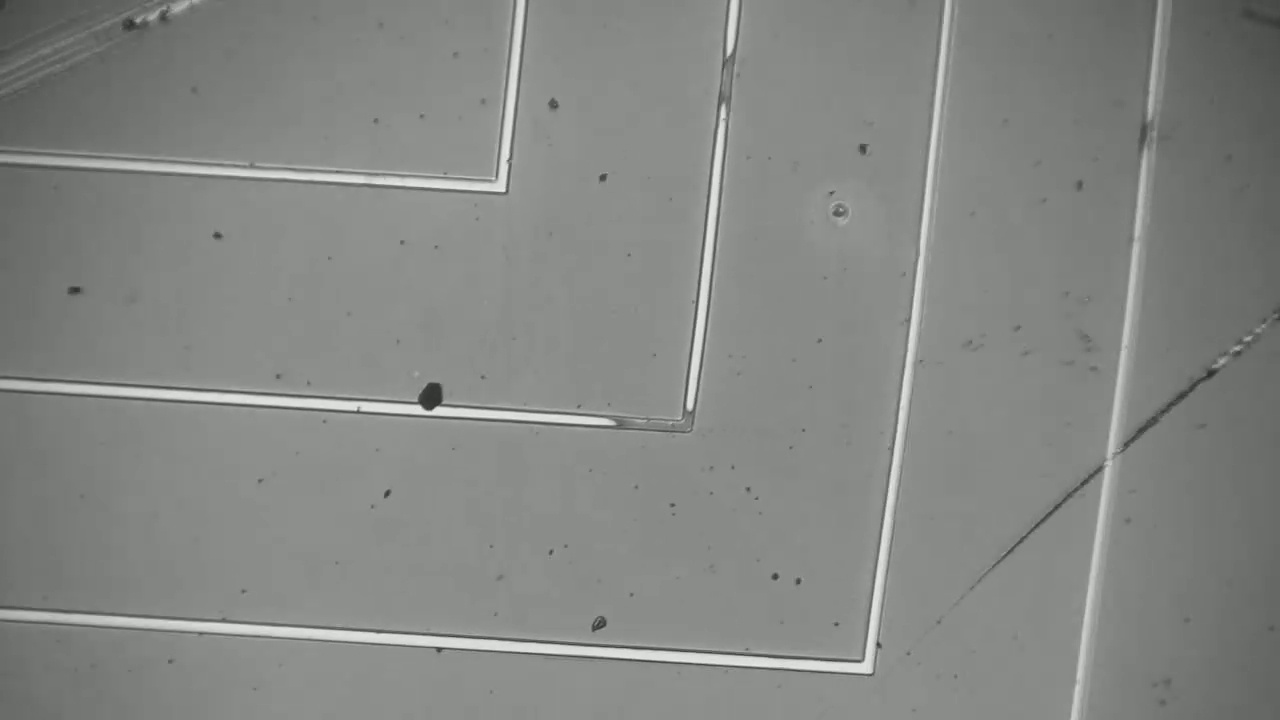edge_bite: (488, 151, 517, 170)
gray_line: (586, 409, 707, 438), (708, 39, 743, 125), (664, 384, 709, 449), (1131, 108, 1169, 167)
scratch: (877, 245, 1279, 679), (0, 1, 208, 150)
stains_enbedded: (407, 376, 452, 426)
